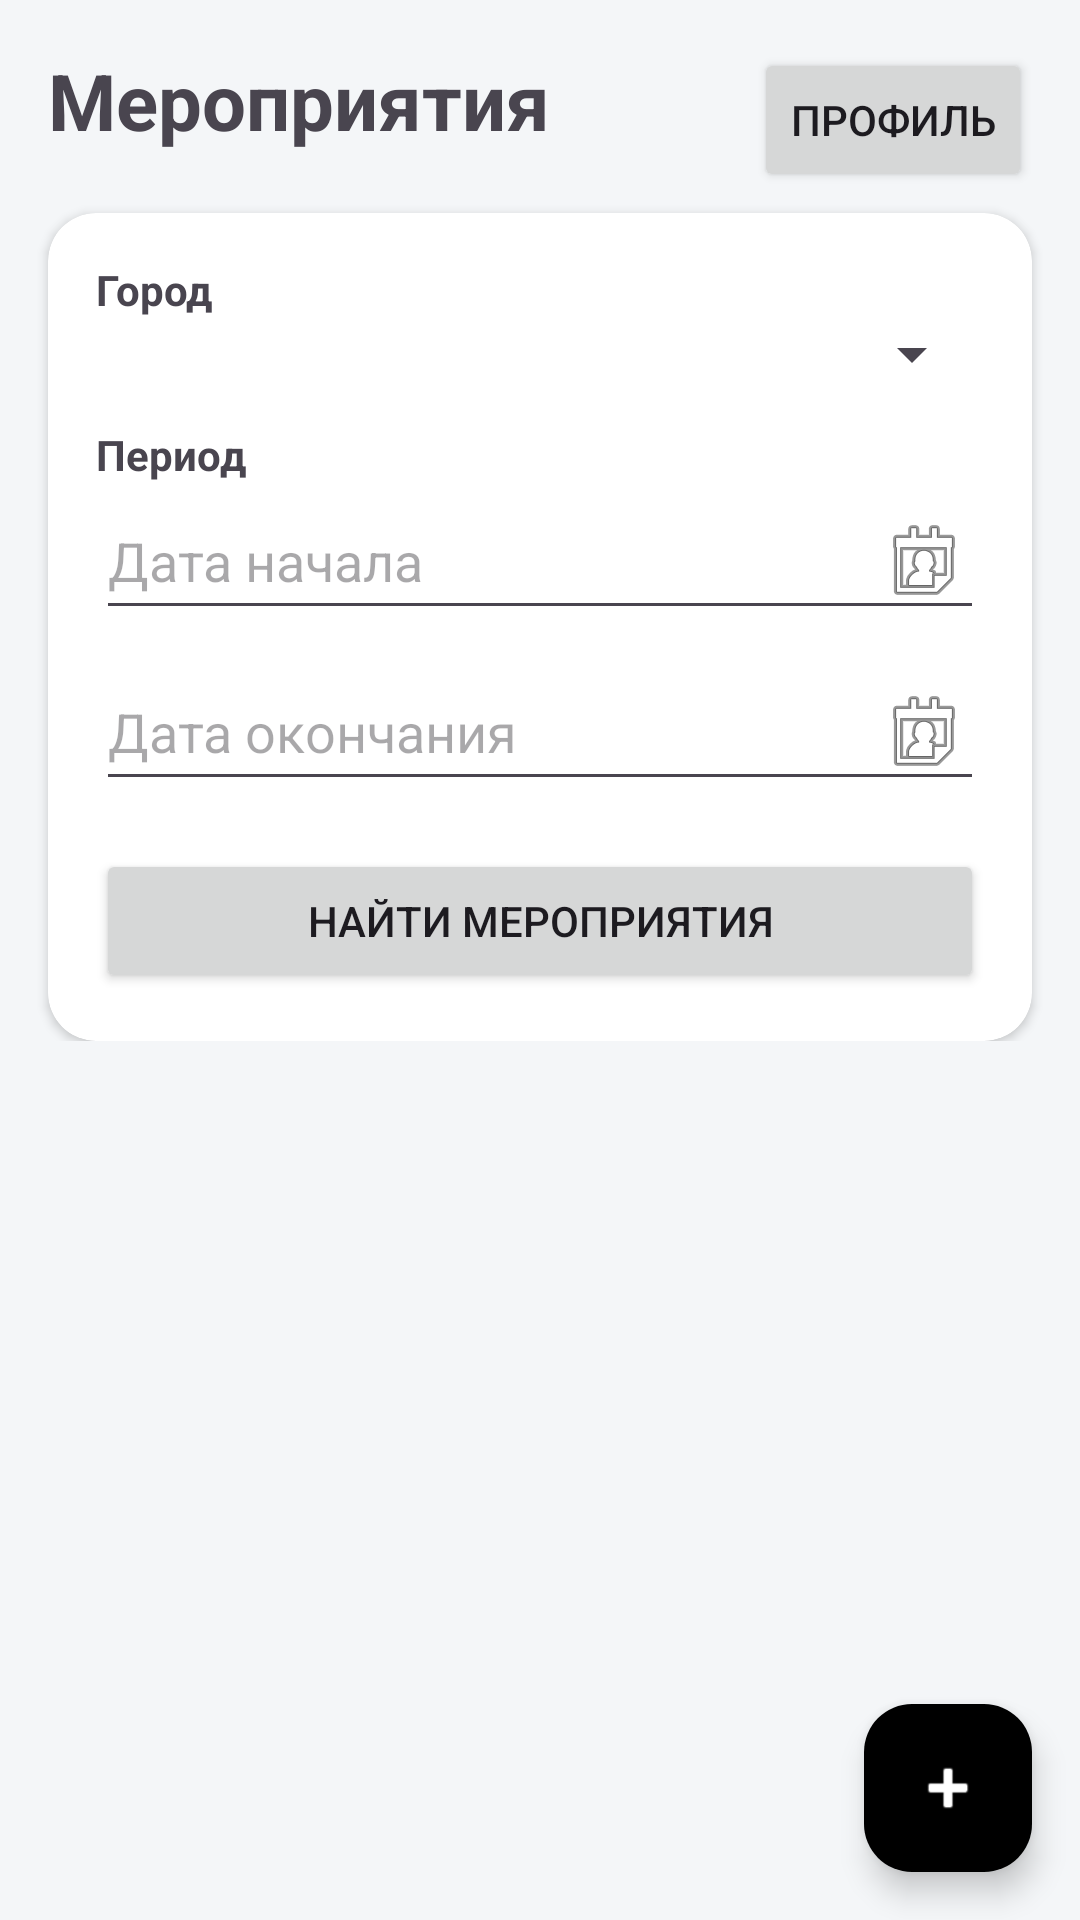

Icons on this 1080px×1920px Android screen, each with its box as (x1, y1, x2, y2):
Добавить мероприятие: (864, 1704, 1032, 1872)
